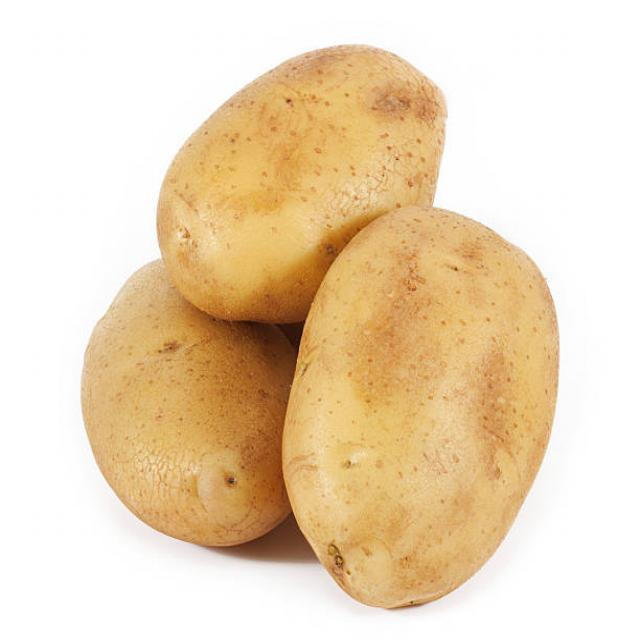Potato: (285, 204, 562, 611), (159, 41, 430, 311), (71, 314, 283, 556)
